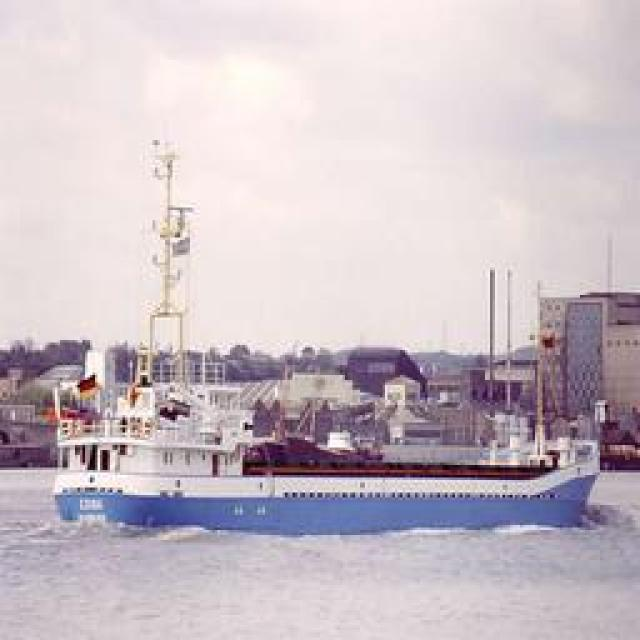CIV_Ship: (34, 356, 614, 539)
